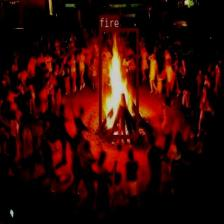fire: (98, 28, 138, 138)
